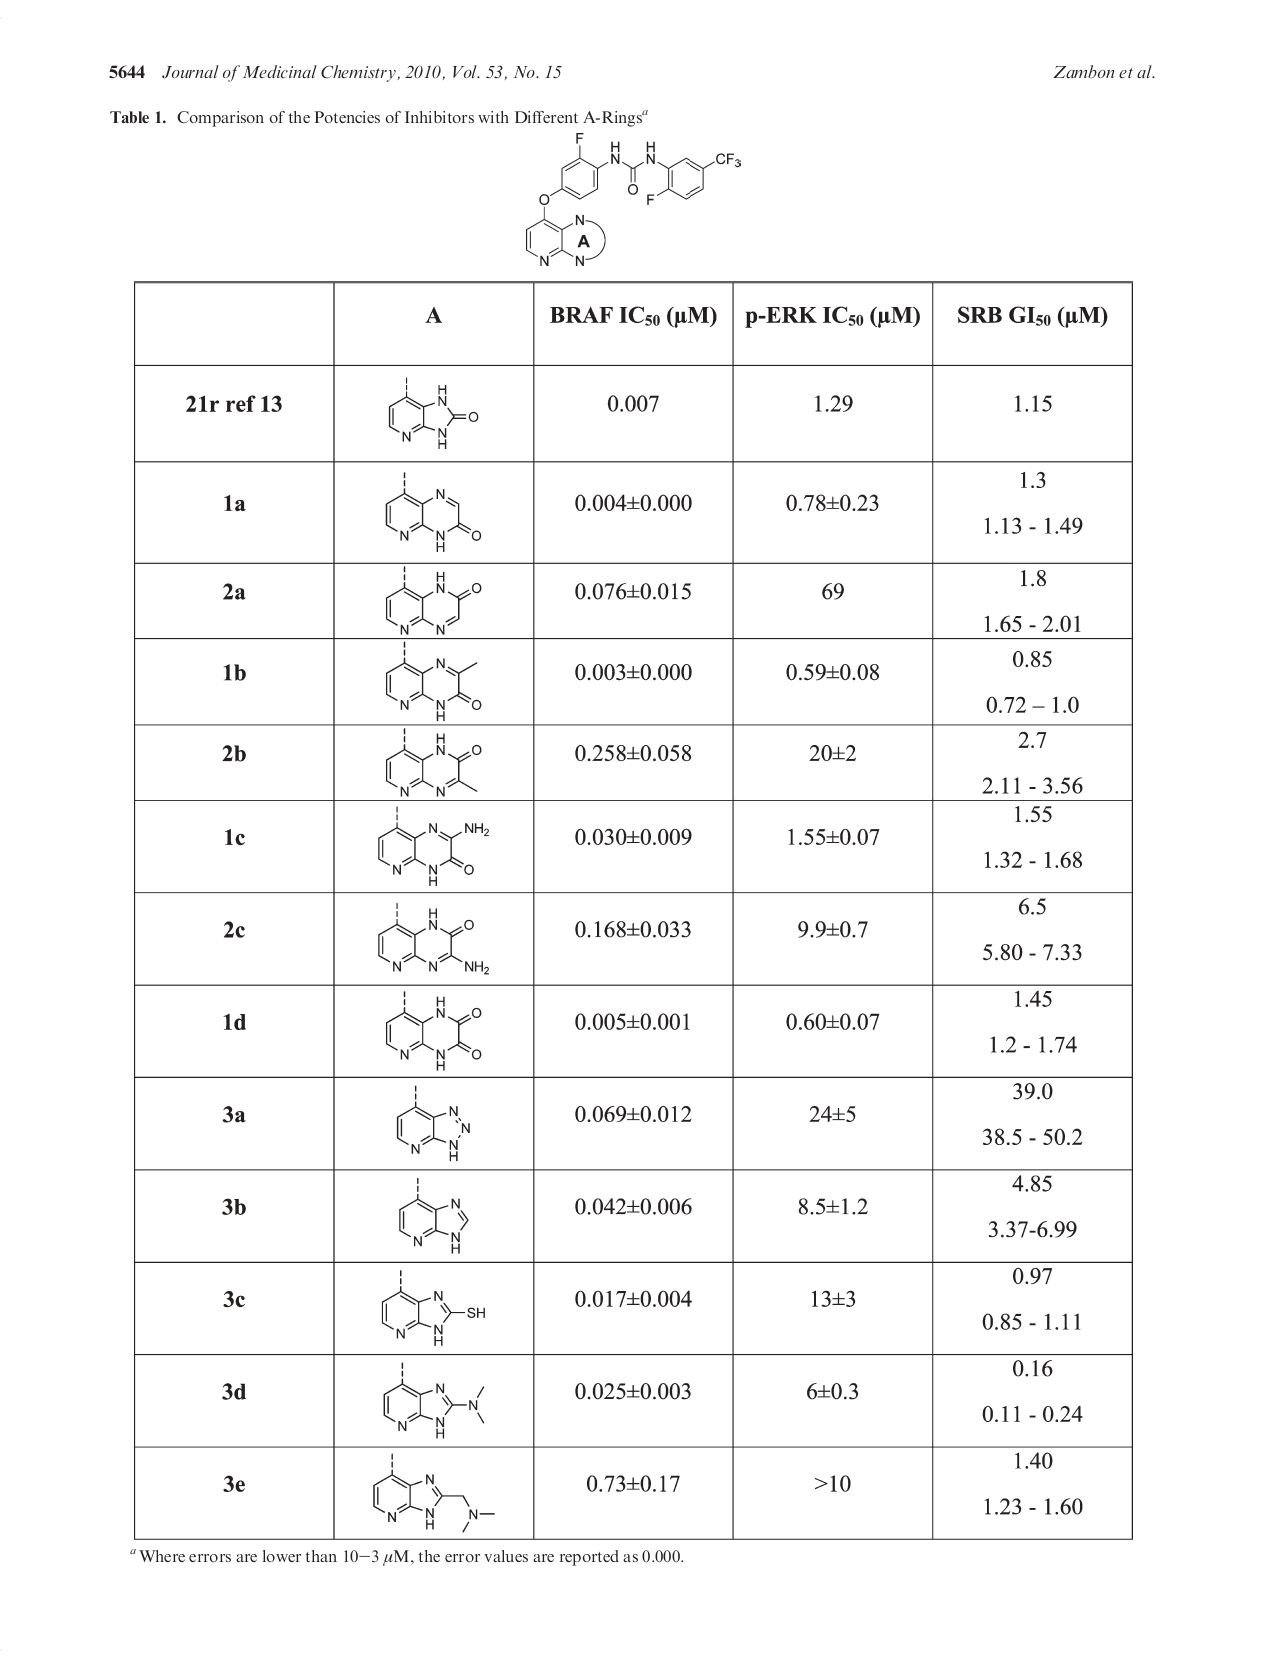exist_molecular: (524, 129, 742, 270), (370, 1450, 497, 1533), (376, 805, 489, 886), (376, 902, 493, 979), (384, 469, 485, 556), (380, 1360, 489, 1440), (383, 989, 487, 1072), (382, 1269, 487, 1348), (384, 641, 483, 722), (387, 376, 481, 453), (384, 567, 485, 637), (386, 727, 481, 797), (396, 1085, 475, 1166), (396, 1178, 472, 1257)
